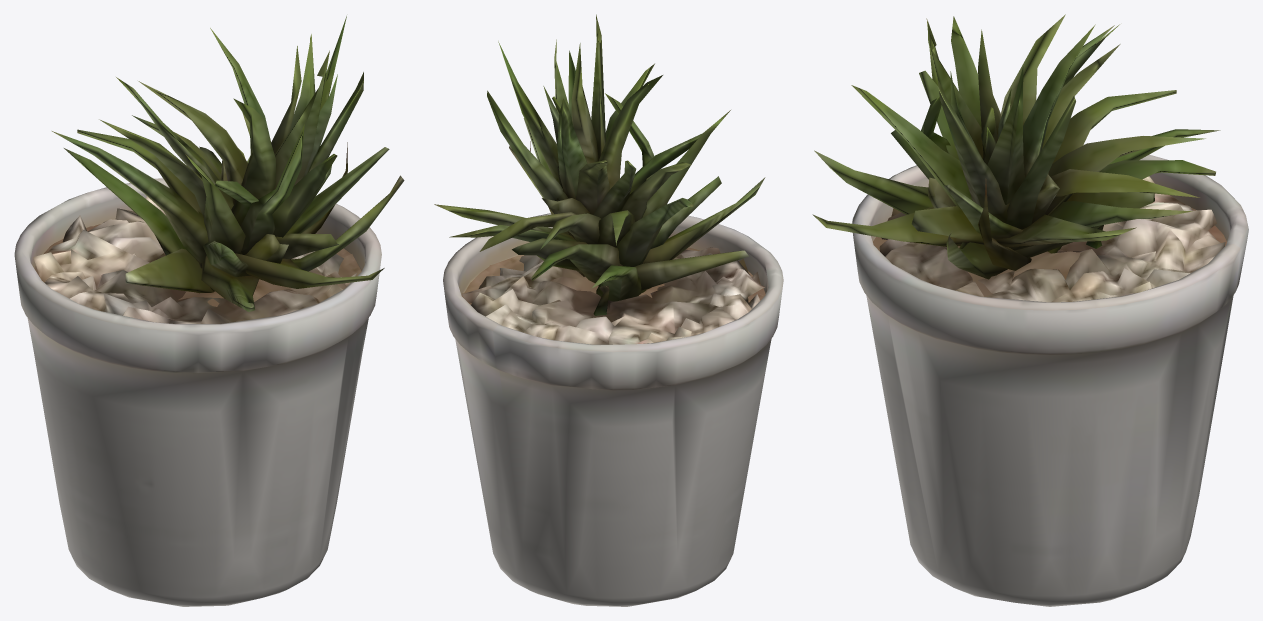
The model's file is plant-succulent.glb.
The picture shows the model from 3 angles, left to right: view 1: azimuth 30°, elevation 25°; view 2: azimuth 150°, elevation 25°; view 3: azimuth 270°, elevation 25°; orthographic projection. The views are drawn at different scales.
Visible parts, largest first — view 1: potted_plant_04_ground; view 2: potted_plant_04_ground; view 3: potted_plant_04_ground.
Boxes of the visible parts, x1,y1,x2,y2 form: potted_plant_04_ground: [14, 16, 404, 606]; potted_plant_04_ground: [434, 14, 783, 606]; potted_plant_04_ground: [812, 14, 1248, 606].
Bounding box in the file's own units: 0.1672 × 0.2671 × 0.1843.
Materials: 1 (1 with a texture image).
